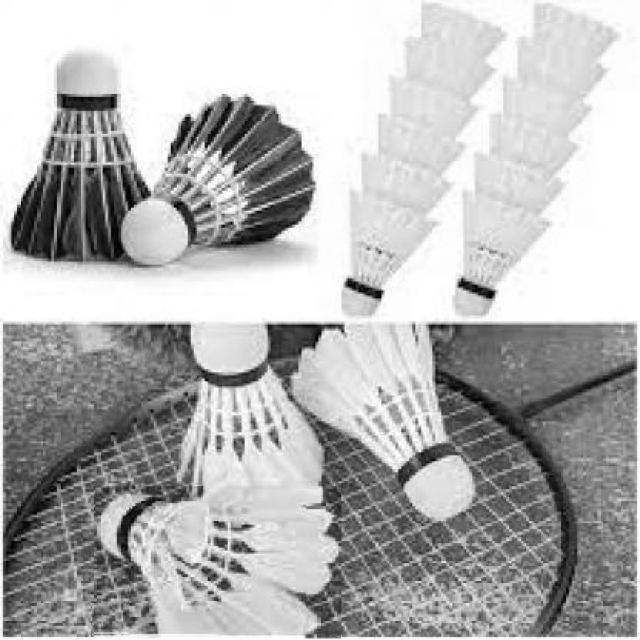Shuttlecock: (93, 485, 340, 635)
